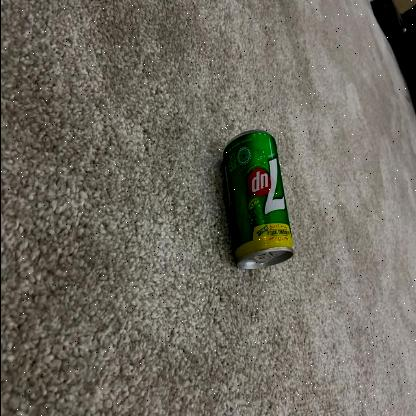Can: (221, 128, 294, 270)
